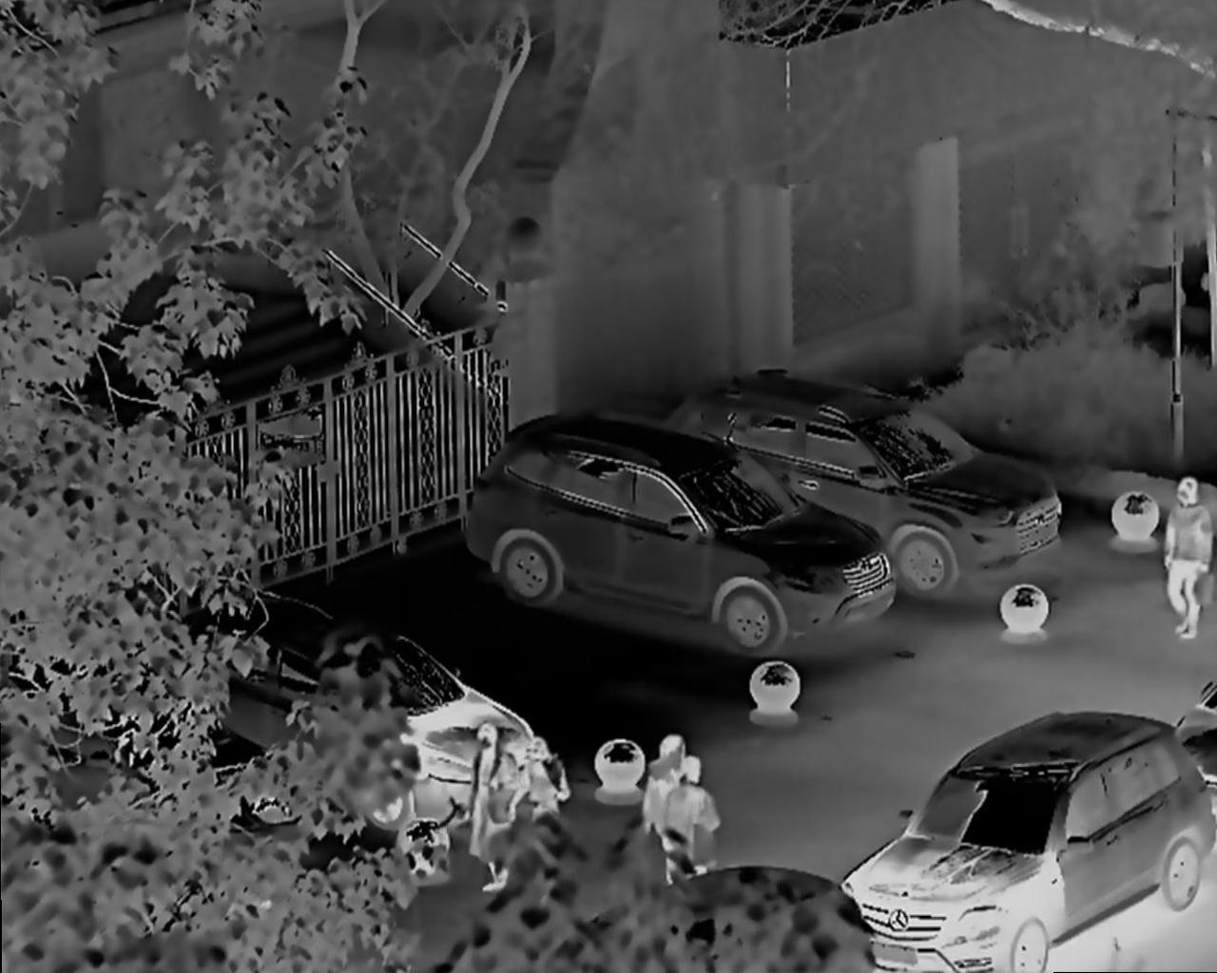person: (1166, 472, 1217, 629), (466, 717, 511, 873), (673, 757, 725, 867), (520, 729, 565, 818), (643, 726, 674, 854)
